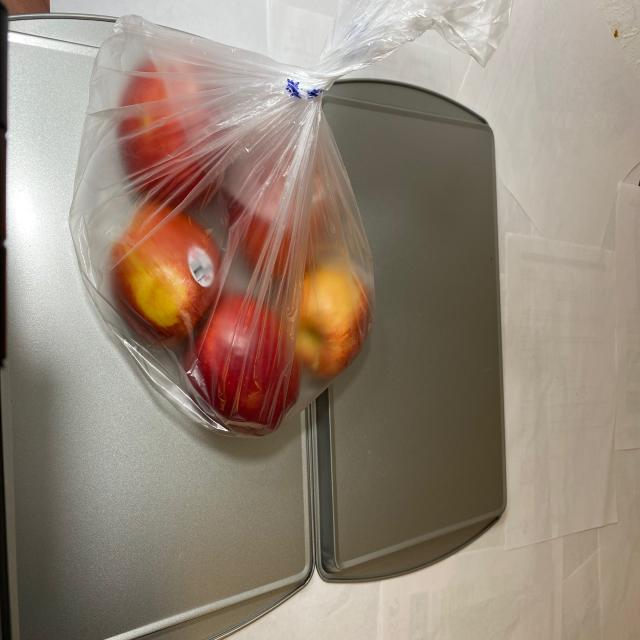apple: (103, 48, 374, 440)
